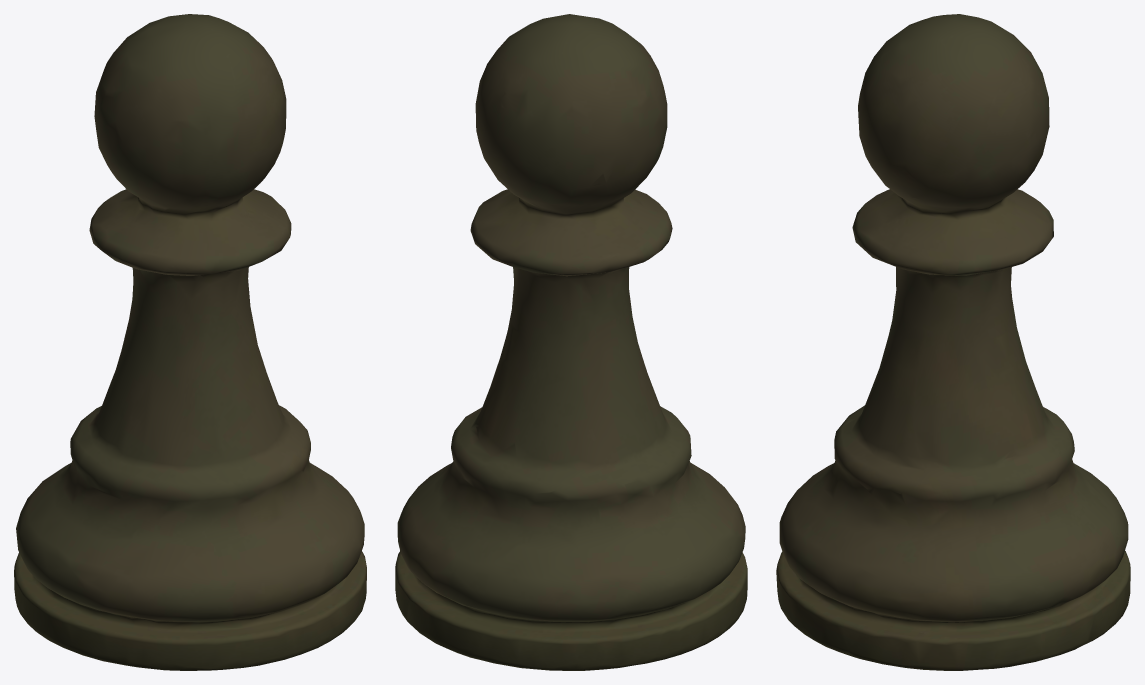
Rendered from pawn.glb.
The picture shows the model from 3 angles, left to right: view 1: azimuth 30°, elevation 25°; view 2: azimuth 150°, elevation 25°; view 3: azimuth 270°, elevation 25°; orthographic projection.
Visible parts, largest first — view 1: tripo_node_4efbef78-c64d-419c-b7f7-09f1b338a622; view 2: tripo_node_4efbef78-c64d-419c-b7f7-09f1b338a622; view 3: tripo_node_4efbef78-c64d-419c-b7f7-09f1b338a622.
Boxes of the visible parts, x1,y1,x2,y2 form: tripo_node_4efbef78-c64d-419c-b7f7-09f1b338a622: (14, 14, 366, 670); tripo_node_4efbef78-c64d-419c-b7f7-09f1b338a622: (395, 14, 747, 670); tripo_node_4efbef78-c64d-419c-b7f7-09f1b338a622: (776, 14, 1130, 670).
Size of the model in its own units: 0.5562 by 1 by 0.5573.
Materials: 1 (1 with a texture image).
